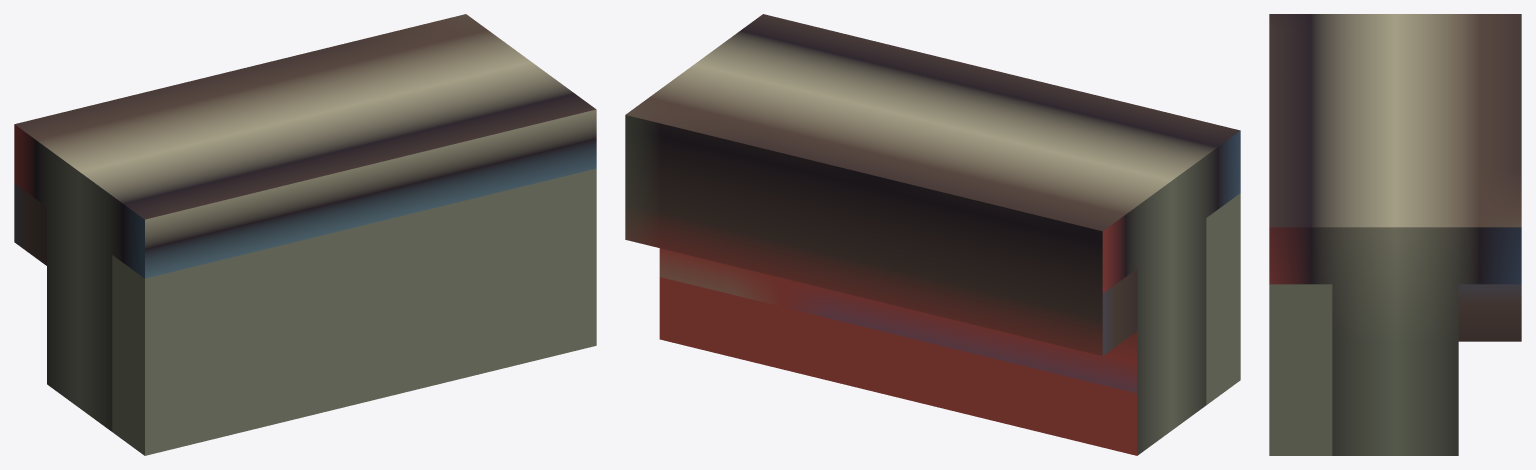
The model's file is casa2_cantonada_dalt2.fbx.
3 renders of one model, left to right at view 1: azimuth 30°, elevation 25°; view 2: azimuth 150°, elevation 25°; view 3: azimuth 270°, elevation 25°, orthographic. The views are drawn at different scales.
Parts seen in each view (by area): view 1: Wall1.022; view 2: Wall1.022; view 3: Wall1.022.
Part boxes in pixels (<box>): Wall1.022: <box>14,14,596,455</box>; Wall1.022: <box>625,14,1240,455</box>; Wall1.022: <box>1269,14,1521,455</box>.
Bounding box in the file's own units: 200 × 100 × 100.
